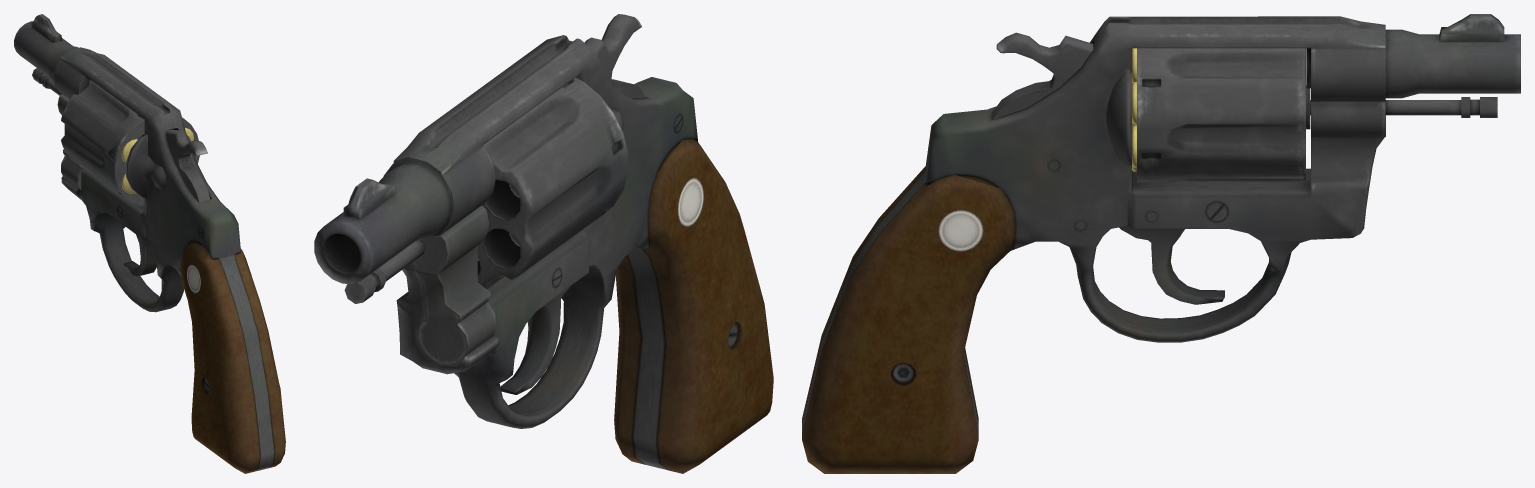
File: detective-special.glb
3 views of the same model, side by side, from view 1: azimuth 30°, elevation 25°; view 2: azimuth 150°, elevation 25°; view 3: azimuth 270°, elevation 25° (orthographic). The views are drawn at different scales.
Parts seen in each view (by area): view 1: Revolver; view 2: Revolver; view 3: Revolver.
Boxes of the visible parts, x1=… form: Revolver: x1=14, y1=14, x2=285, y2=473; Revolver: x1=314, y1=14, x2=773, y2=473; Revolver: x1=802, y1=14, x2=1520, y2=473.
Bounding box in the file's own units: 0.0389 × 0.1287 × 0.1875.
Materials: 2 (2 with a texture image).
